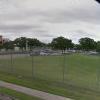Tree: (47, 31, 77, 55)
